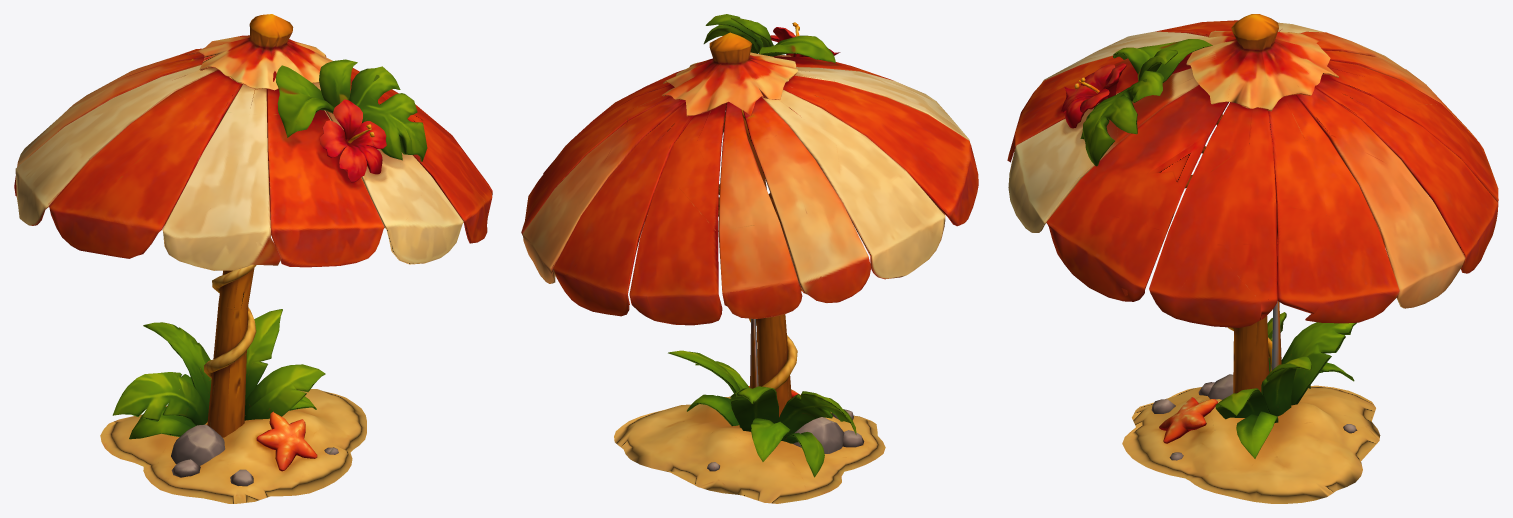
File: sombrilla.fbx
The picture shows the model from 3 angles, left to right: view 1: azimuth 30°, elevation 25°; view 2: azimuth 150°, elevation 25°; view 3: azimuth 270°, elevation 25°; orthographic projection. The views are drawn at different scales.
Parts seen in each view (by area): view 1: geometry_0; view 2: geometry_0; view 3: geometry_0.
Part boxes in pixels (box(x1,y1,x2,y2)): geometry_0: box(14, 14, 492, 503); geometry_0: box(521, 14, 978, 503); geometry_0: box(1007, 14, 1498, 503).
Size of the model in its own units: 96.04 by 94.38 by 95.07.
Materials: 1 (1 with a texture image).
